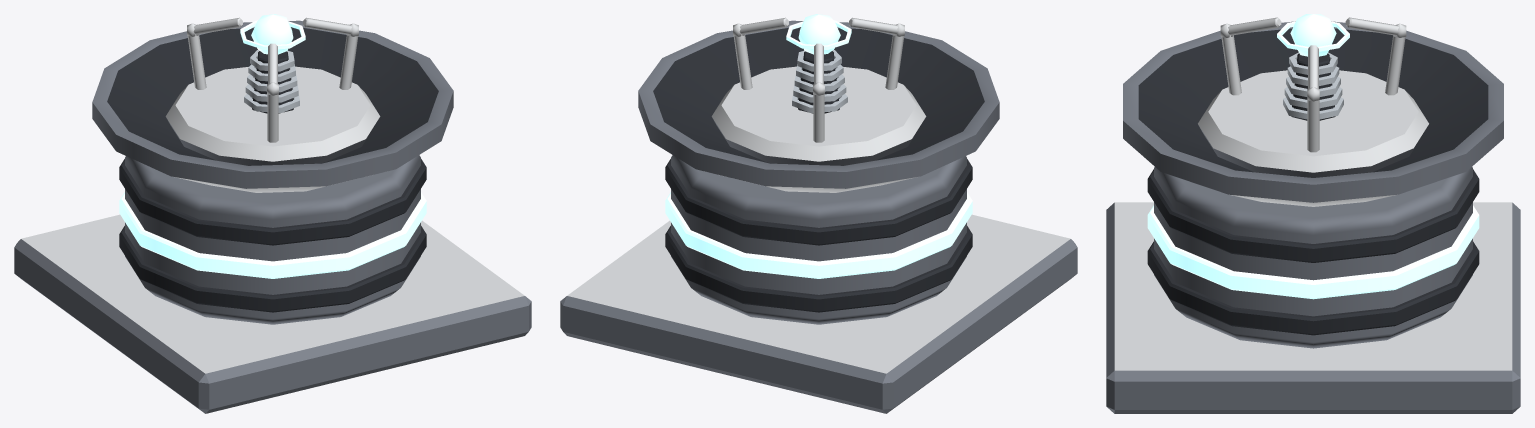
The model's file is R4X_EMPTrapDeployer_LOD1.fbx.
3 renders of one model, left to right at view 1: azimuth 30°, elevation 25°; view 2: azimuth 150°, elevation 25°; view 3: azimuth 270°, elevation 25°, orthographic. The views are drawn at different scales.
Visible parts, largest first — view 1: R4X_EMPTrapDeployer_LOD1; view 2: R4X_EMPTrapDeployer_LOD1; view 3: R4X_EMPTrapDeployer_LOD1.
Part boxes in pixels (x1=…): R4X_EMPTrapDeployer_LOD1: x1=14, y1=14, x2=531, y2=413; R4X_EMPTrapDeployer_LOD1: x1=560, y1=14, x2=1077, y2=413; R4X_EMPTrapDeployer_LOD1: x1=1106, y1=14, x2=1520, y2=413.
Bounding box in the file's own units: 0.52 × 0.437 × 0.52.
